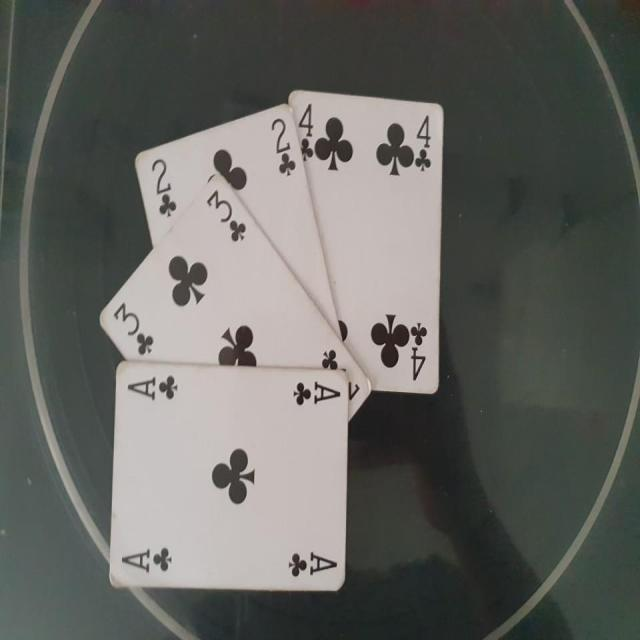2 Trefoils: (132, 101, 340, 338)
3 Trefoils: (99, 170, 373, 424)
4 Trefoils: (289, 89, 445, 397)
A Trefoils: (107, 359, 350, 594)
